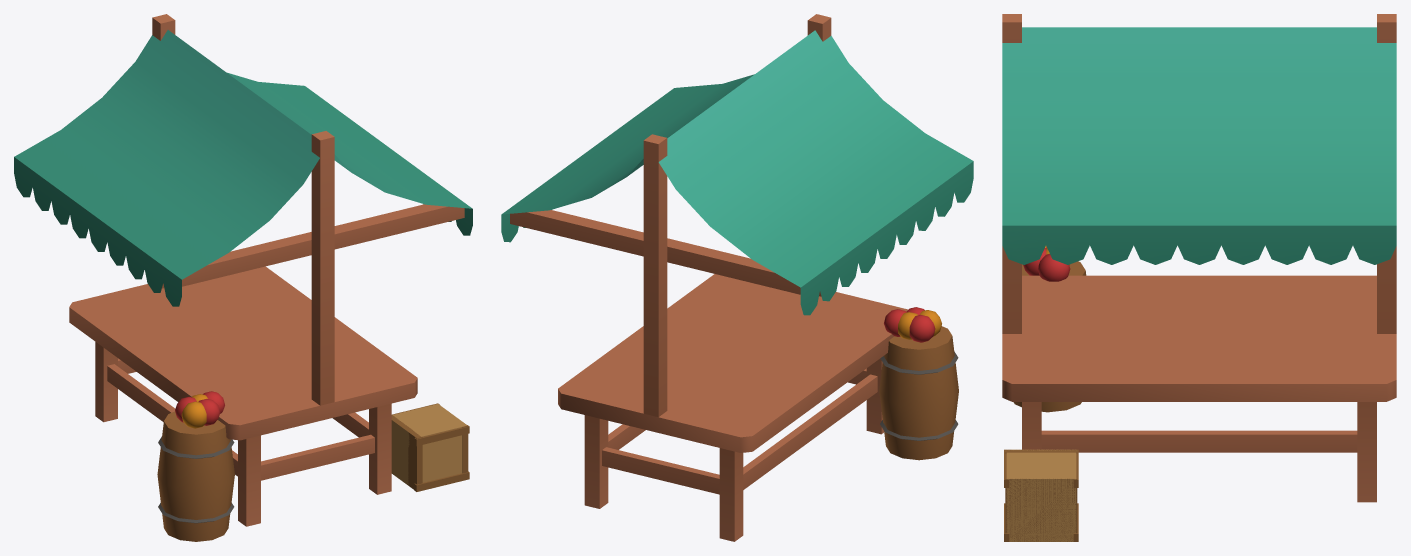
File: juice_press.glb
3 views of the same model, side by side, from view 1: azimuth 30°, elevation 25°; view 2: azimuth 150°, elevation 25°; view 3: azimuth 270°, elevation 25° (orthographic). The views are drawn at different scales.
Visible parts, largest first — view 1: building-juice_press; view 2: building-juice_press; view 3: building-juice_press.
Boxes of the visible parts, left/top/right/bottom form: building-juice_press: left=14, top=14, right=472, bottom=541; building-juice_press: left=501, top=14, right=973, bottom=541; building-juice_press: left=1002, top=14, right=1396, bottom=541.
Bounding box in the file's own units: 3.12 × 3.86 × 3.12.
